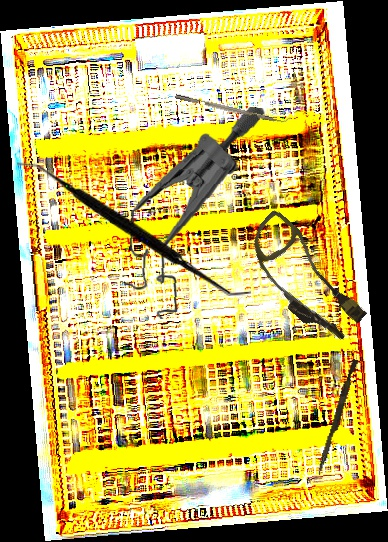Cannula: (230, 207, 379, 351)
Chopper: (175, 88, 291, 127)
Pusher: (316, 358, 359, 477)
Spatula Surgical: (17, 159, 251, 296)
Speculum: (117, 99, 268, 325)
